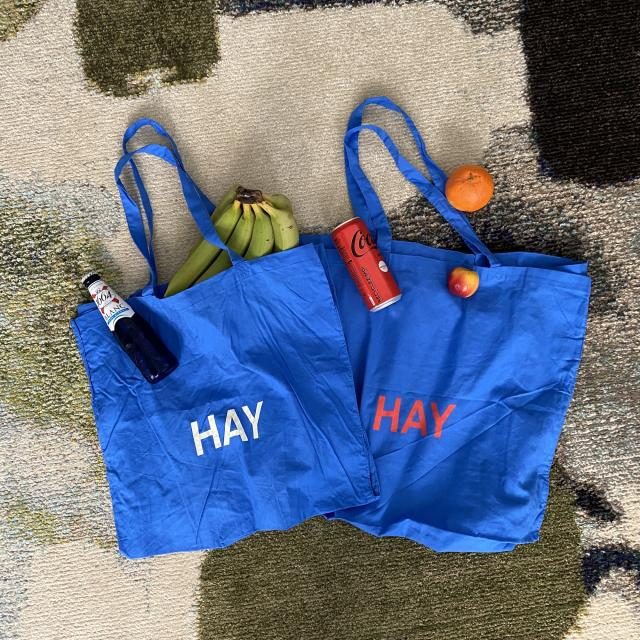ecobag: (56, 127, 393, 558), (277, 89, 587, 557)
